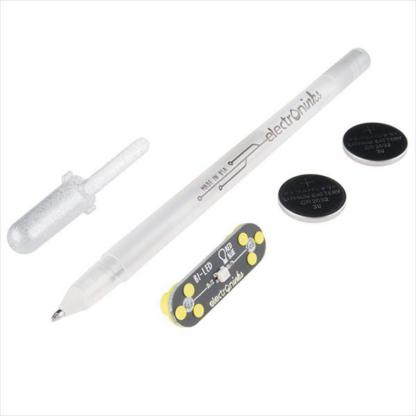Pen: (49, 48, 371, 325)
